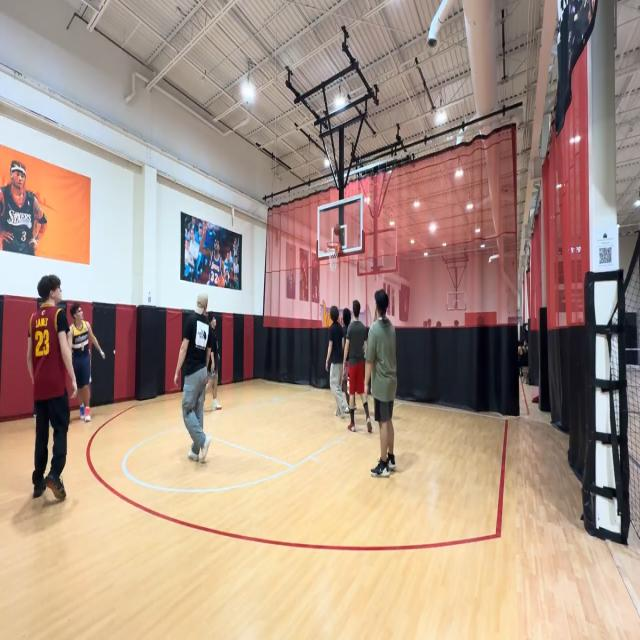Basketball: (333, 224, 341, 236)
Basketball Rim: (325, 241, 340, 273)
